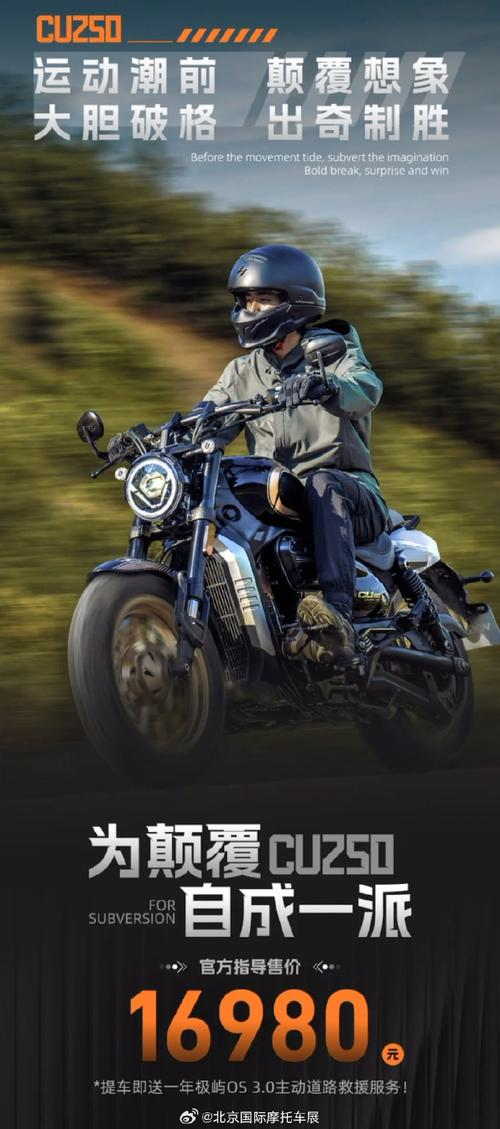摩托车: (59, 405, 486, 760)
